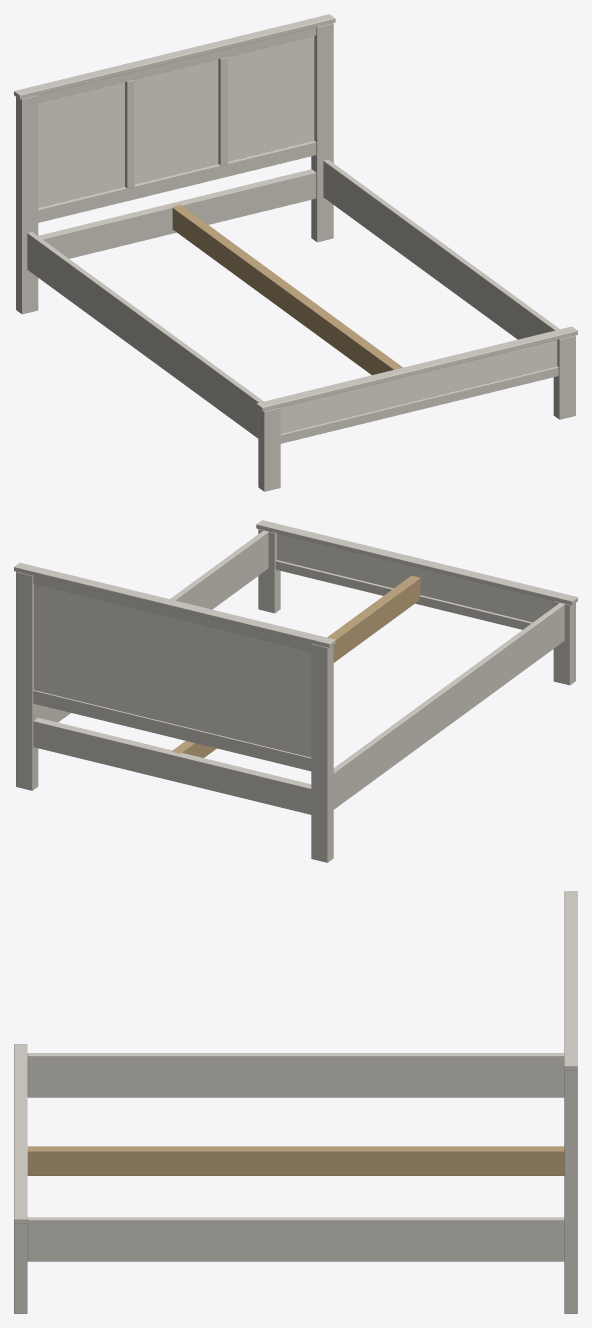
The picture shows the model from 3 angles, top to bottom: view 1: azimuth 30°, elevation 25°; view 2: azimuth 150°, elevation 25°; view 3: azimuth 270°, elevation 25°; orthographic projection. The views are drawn at different scales.
Visible parts, largest first — view 1: Panel del cabecero, Larguero izquierdo, Larguero derecho, Travesaño estructural inferior del cabecero, Panel del piecero, Viga central de madera laminada, Poste izquierdo del cabecero, Travesaño inferior del cabecero, Poste derecho del cabecero, Remate superior del cabecero, Remate del piecero, Travesaño inferior del piecero (+5 smaller); view 2: Panel del cabecero, Larguero izquierdo, Travesaño estructural inferior del cabecero, Panel del piecero, Poste izquierdo del cabecero, Poste derecho del cabecero, Travesaño inferior del cabecero, Larguero derecho, Remate del piecero, Remate superior del cabecero, Viga central de madera laminada, Travesaño superior del cabecero (+3 smaller); view 3: Larguero derecho, Larguero izquierdo, Viga central de madera laminada, Poste derecho del cabecero, Remate del piecero, Remate superior del cabecero, Pata derecha del piecero.
Boxes of the visible parts, box(x1,y1,x2,y2) form: Panel del cabecero: box(38, 36, 314, 207); Larguero izquierdo: box(27, 232, 263, 438); Larguero derecho: box(323, 159, 559, 339); Travesaño estructural inferior del cabecero: box(38, 169, 316, 258); Panel del piecero: box(280, 340, 557, 433); Viga central de madera laminada: box(172, 204, 402, 374); Poste izquierdo del cabecero: box(16, 95, 38, 314); Travesaño inferior del cabecero: box(38, 140, 316, 222); Poste derecho del cabecero: box(311, 23, 333, 242); Remate superior del cabecero: box(14, 14, 335, 99); Remate del piecero: box(256, 326, 577, 411); Travesaño inferior del piecero: box(280, 366, 558, 443); Panel del cabecero: box(34, 584, 311, 757); Larguero izquierdo: box(333, 603, 564, 809); Travesaño estructural inferior del cabecero: box(33, 717, 311, 814); Panel del piecero: box(277, 533, 553, 622); Poste izquierdo del cabecero: box(311, 643, 333, 862); Poste derecho del cabecero: box(16, 571, 38, 790); Travesaño inferior del cabecero: box(33, 690, 311, 771); Larguero derecho: box(38, 530, 268, 722); Remate del piecero: box(256, 520, 577, 605); Remate superior del cabecero: box(14, 562, 335, 647); Viga central de madera laminada: box(171, 575, 420, 757); Travesaño superior del cabecero: box(33, 576, 311, 651); Larguero derecho: box(27, 1217, 564, 1261); Larguero izquierdo: box(27, 1053, 564, 1097); Viga central de madera laminada: box(27, 1146, 564, 1175); Poste derecho del cabecero: box(564, 1070, 577, 1313); Remate del piecero: box(14, 1044, 27, 1223); Remate superior del cabecero: box(564, 891, 577, 1070); Pata derecha del piecero: box(14, 1223, 27, 1313).
Bounding box in the file's own units: 1.52 × 1.01 × 2.07.
